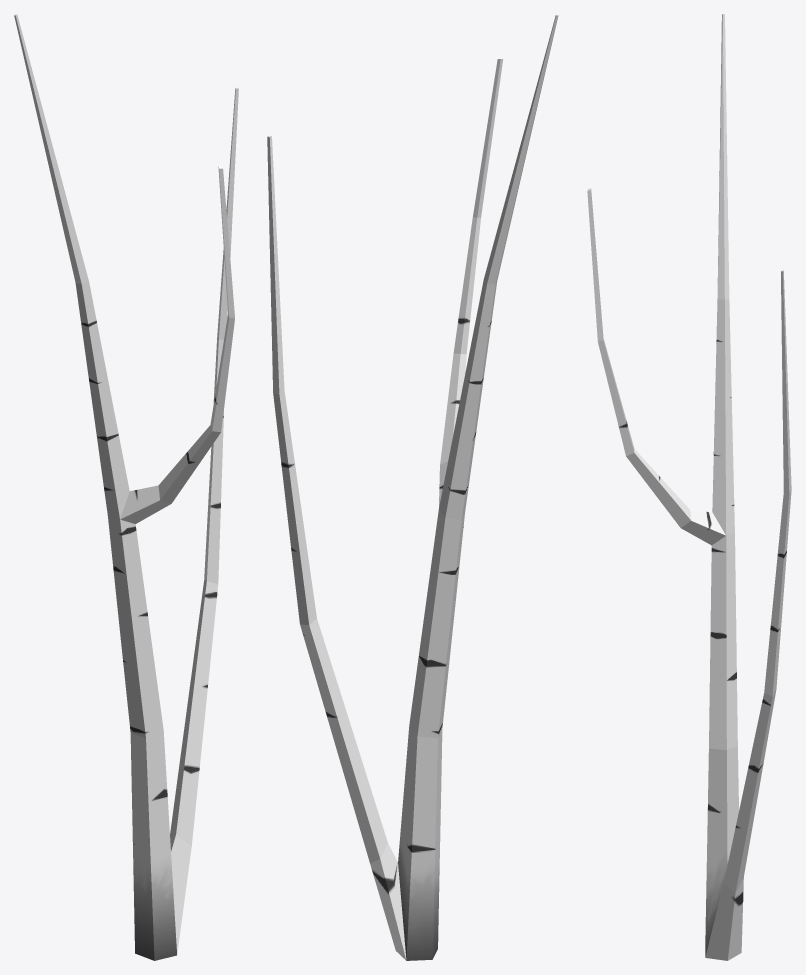
Rendered from Birch_Tree_NoLeaves_m_06.fbx.
3 views of the same model, side by side, from view 1: azimuth 30°, elevation 25°; view 2: azimuth 150°, elevation 25°; view 3: azimuth 270°, elevation 25° (orthographic). The views are drawn at different scales.
Parts seen in each view (by area): view 1: Birch_Tree_NoLeaves_m_06; view 2: Birch_Tree_NoLeaves_m_06; view 3: Birch_Tree_NoLeaves_m_06.
Boxes of the visible parts, x1=… form: Birch_Tree_NoLeaves_m_06: x1=14, y1=14, x2=238, y2=960; Birch_Tree_NoLeaves_m_06: x1=267, y1=14, x2=558, y2=960; Birch_Tree_NoLeaves_m_06: x1=587, y1=14, x2=791, y2=960.
Bounding box in the file's own units: 169 × 610 × 129.
